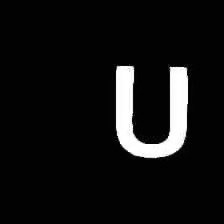LTR_U: (104, 55, 196, 164)
